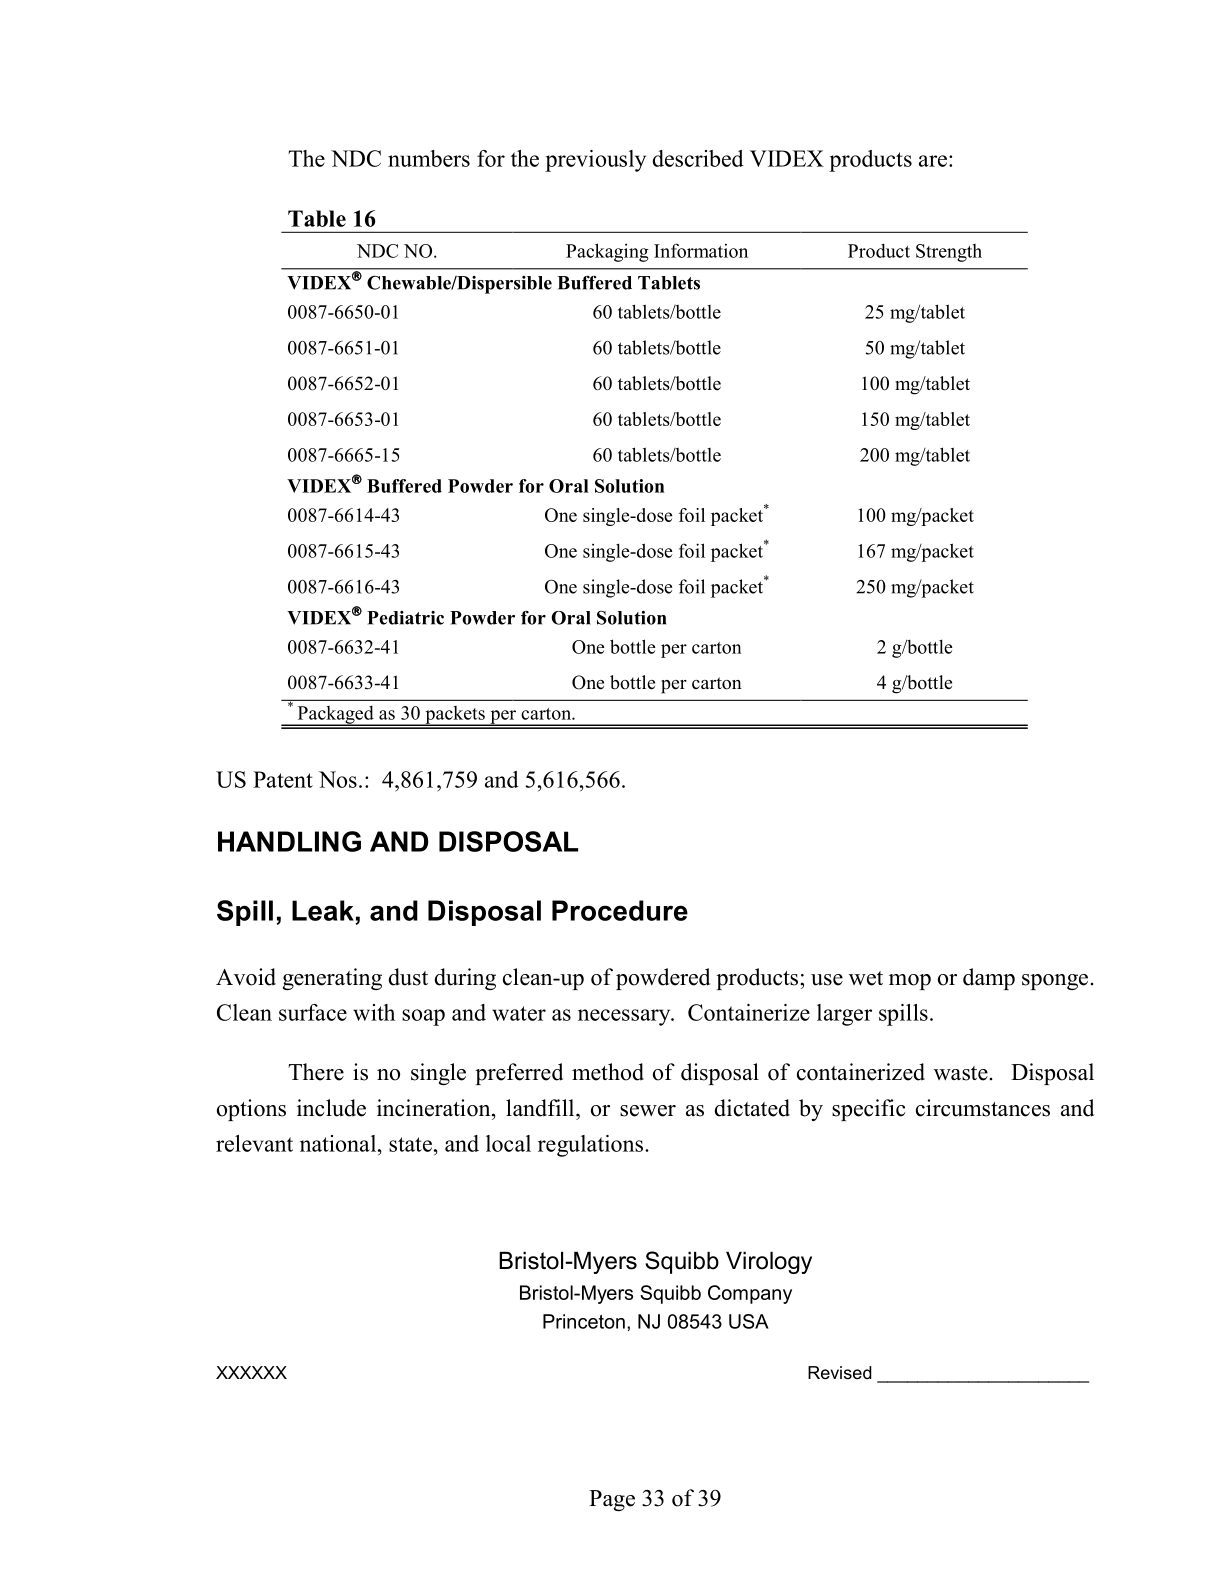partial_lined: (278, 229, 1027, 706)
